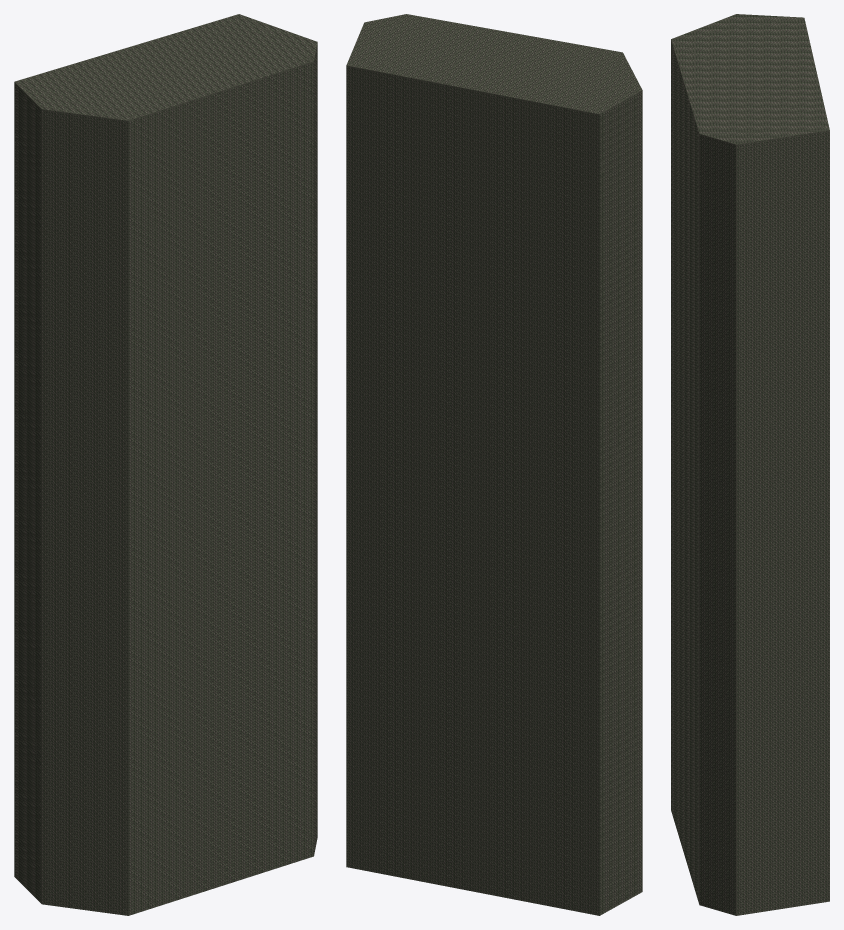
The model's file is Apartment.fbx.
3 views of the same model, side by side, from view 1: azimuth 30°, elevation 25°; view 2: azimuth 150°, elevation 25°; view 3: azimuth 270°, elevation 25° (orthographic). The views are drawn at different scales.
Parts seen in each view (by area): view 1: Apartment; view 2: Apartment; view 3: Apartment.
Boxes of the visible parts, box(x1,y1,x2,y2) form: Apartment: box(14, 14, 317, 915); Apartment: box(346, 14, 642, 915); Apartment: box(671, 14, 829, 915).
Bounding box in the file's own units: 10900 × 30000 × 5600.
Materials: 1 (1 with a texture image).
